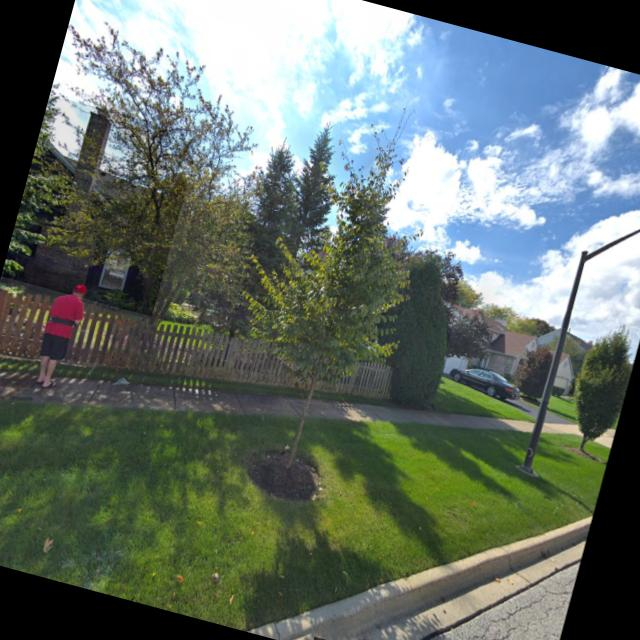House: (1, 94, 200, 316), (440, 302, 584, 406), (530, 321, 592, 376)
